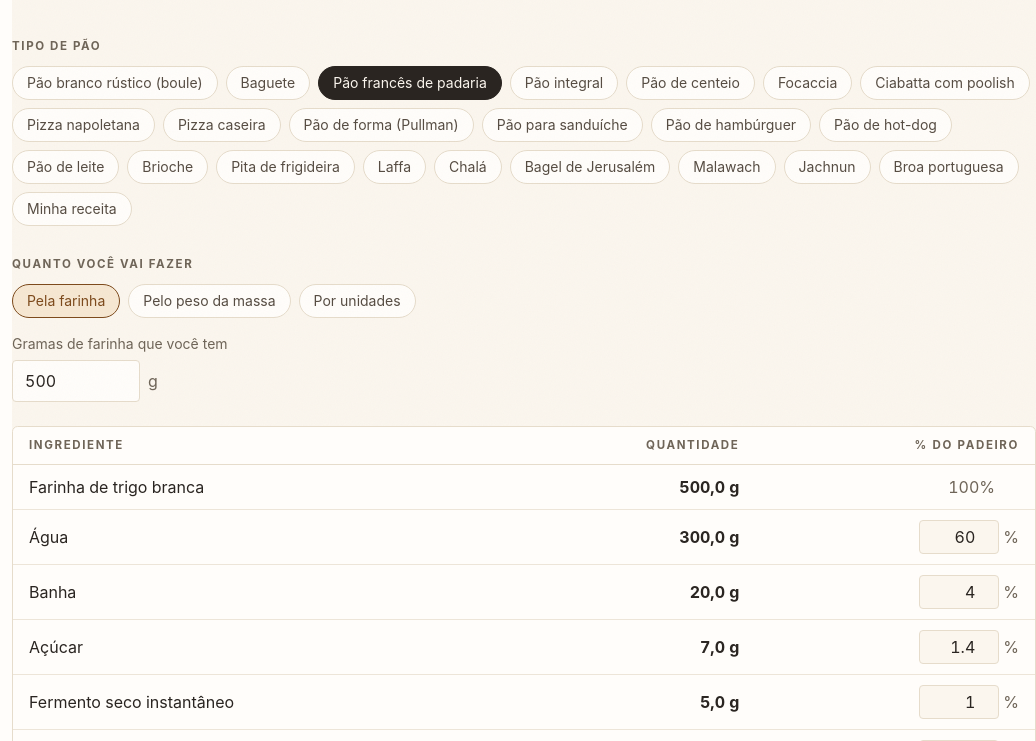
Test: calculadora de pães › converte o alvo de peso de massa em farinha
Click the button "Pelo peso da massa".
click(209, 301)  # box 128,284 -> 291,318
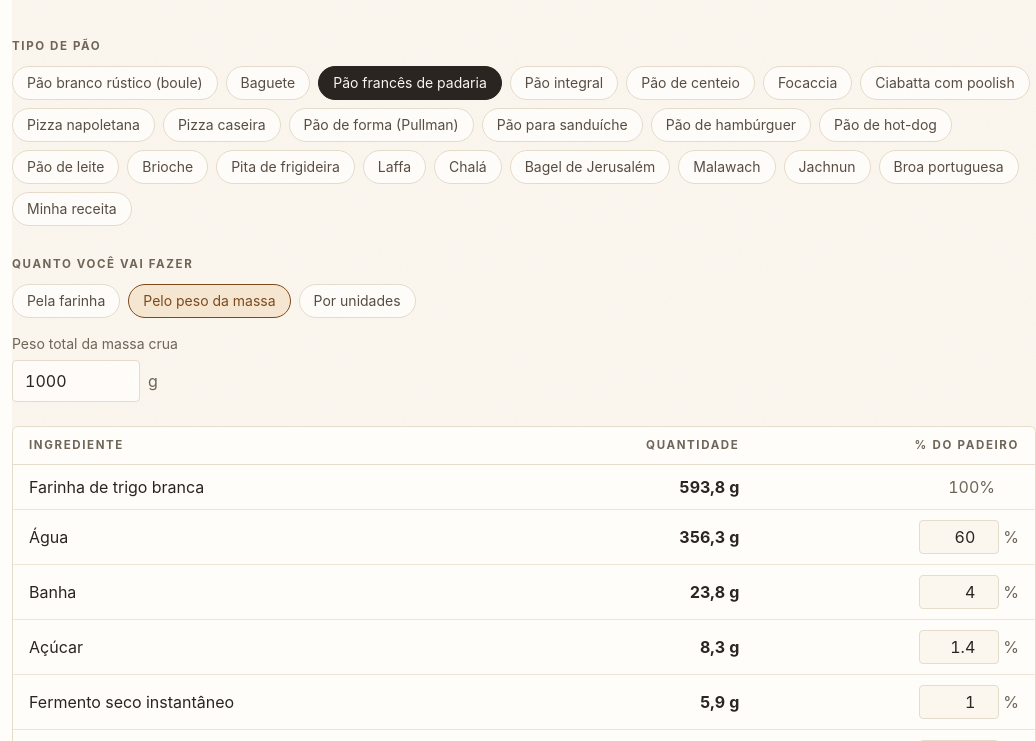
Replace the text in the number field labelled "Peso total da massa crua" with "842" at coordinates (76, 381), box 12,360 -> 140,402
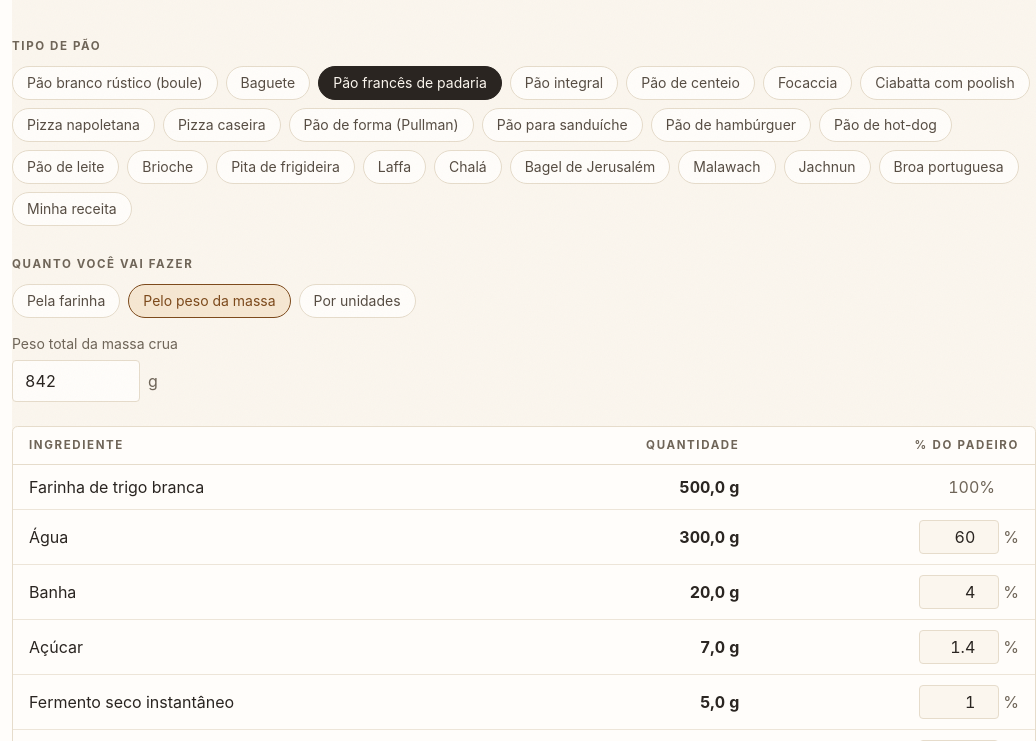
Now the text "500,0 g" is shown, box 499,465 -> 756,510
